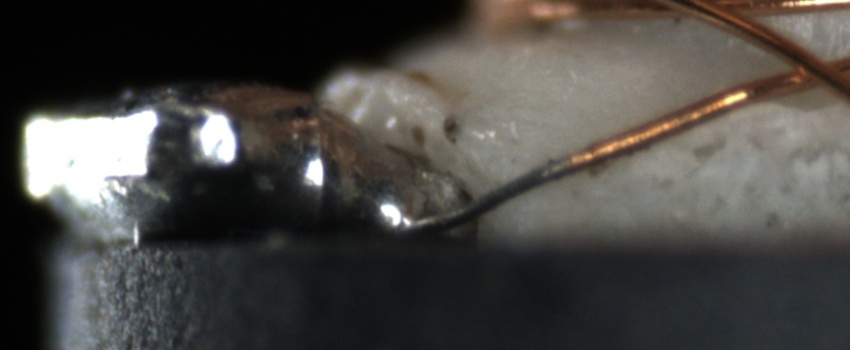CL: (763, 41, 847, 97)
TS: (399, 154, 570, 234)
